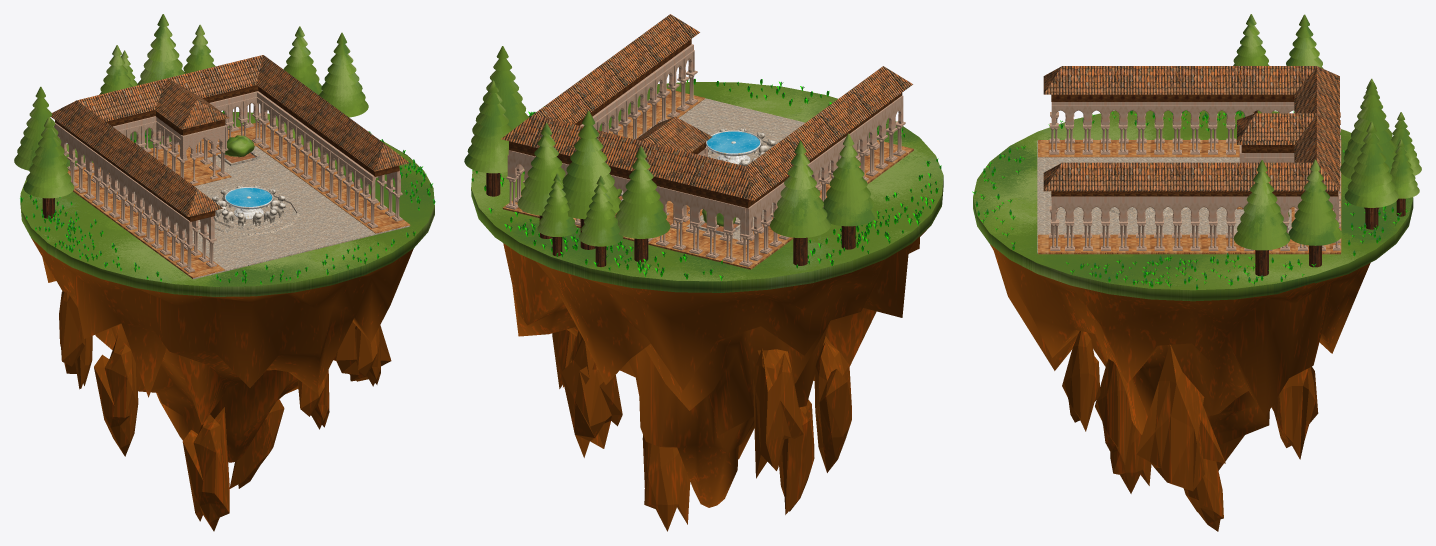
File: PATIO_DE_LEONES.glb
3 renders of one model, left to right at view 1: azimuth 30°, elevation 25°; view 2: azimuth 150°, elevation 25°; view 3: azimuth 270°, elevation 25°, orthographic. The views are drawn at different scales.
Visible parts, largest first — view 1: Icosphere.001, Plane.030, Icosphere.005, Circle.002, Plane.029, Plane.015, Circle.001, Cylinder.008, Cylinder.007, Plane.016, Plane.026, Cylinder (+15 smaller); view 2: Icosphere.001, Plane.030, Circle.002, Icosphere.005, Cylinder.008, Circle.001, Plane.015, Cylinder.007, arbol, Cylinder.005, Plane.029, Plane.026 (+10 smaller); view 3: Icosphere.001, Plane.030, Circle.002, Icosphere.005, Plane.015, Cylinder.007, Circle.001, Plane.029, Plane.024, Plane, Plane.016, Cylinder.003 (+9 smaller).
Part boxes in pixels (left/top/right/bottom): Icosphere.001: left=31, top=238, right=413, bottom=462; Plane.030: left=51, top=55, right=409, bottom=216; Icosphere.005: left=59, top=291, right=391, bottom=531; Circle.002: left=20, top=112, right=434, bottom=286; Plane.029: left=109, top=146, right=409, bottom=279; Plane.015: left=67, top=121, right=410, bottom=278; Circle.001: left=20, top=146, right=434, bottom=296; Cylinder.008: left=14, top=86, right=74, bottom=218; Cylinder.007: left=283, top=26, right=368, bottom=117; Plane.016: left=192, top=91, right=375, bottom=239; Plane.026: left=54, top=122, right=192, bottom=244; Cylinder: left=198, top=186, right=313, bottom=240; Icosphere.001: left=503, top=228, right=928, bottom=507; Plane.030: left=501, top=14, right=912, bottom=200; Circle.002: left=471, top=82, right=943, bottom=281; Icosphere.005: left=552, top=329, right=851, bottom=531; Cylinder.008: left=770, top=133, right=877, bottom=265; Circle.001: left=471, top=176, right=943, bottom=292; Plane.015: left=502, top=88, right=913, bottom=269; Cylinder.007: left=464, top=46, right=528, bottom=196; arbol: left=562, top=111, right=621, bottom=249; Cylinder.005: left=615, top=146, right=670, bottom=262; Plane.029: left=621, top=98, right=869, bottom=239; Plane.026: left=745, top=95, right=903, bottom=235; Icosphere.001: left=990, top=244, right=1370, bottom=470; Plane.030: left=1043, top=66, right=1339, bottom=191; Circle.002: left=973, top=110, right=1412, bottom=290; Icosphere.005: left=1062, top=331, right=1318, bottom=531; Plane.015: left=1038, top=140, right=1341, bottom=254; Cylinder.007: left=1233, top=159, right=1342, bottom=276; Circle.001: left=973, top=198, right=1413, bottom=301; Plane.029: left=1037, top=140, right=1291, bottom=253; Plane.024: left=1051, top=196, right=1338, bottom=221; Plane: left=1051, top=94, right=1338, bottom=196; Plane.016: left=1051, top=102, right=1294, bottom=125; Cylinder.003: left=1344, top=121, right=1398, bottom=229.
Size of the model in its own units: 3.17 by 3.55 by 3.23.
16 materials, 14 textured.
